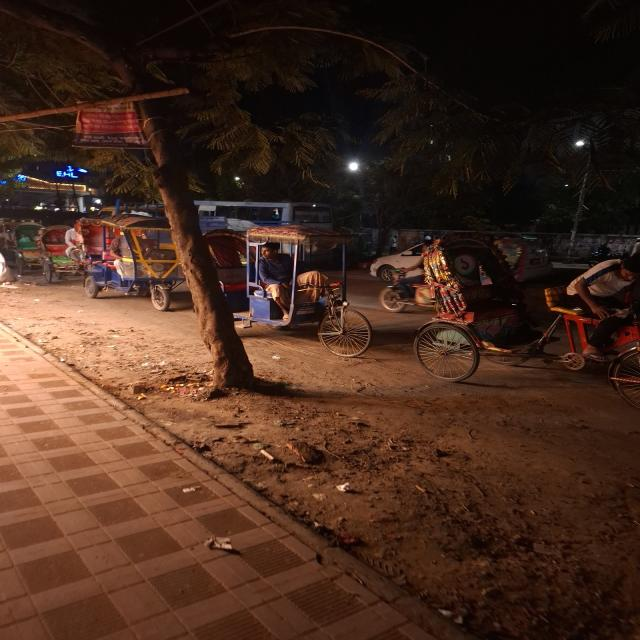rickshaw: (404, 231, 639, 399), (217, 224, 369, 354), (72, 214, 171, 318), (30, 222, 87, 284)
